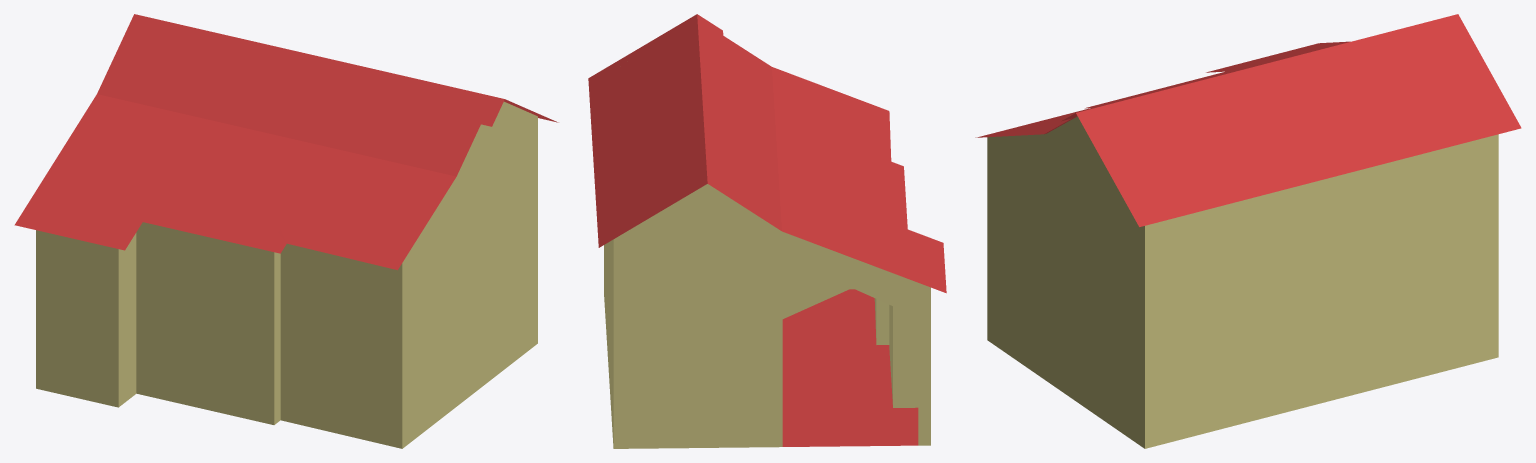
3 views of the same model, side by side, from view 1: azimuth 30°, elevation 25°; view 2: azimuth 150°, elevation 25°; view 3: azimuth 270°, elevation 25° (orthographic). The views are drawn at different scales.
Size of the model in its own units: 25.09 by 24.26 by 14.79.
